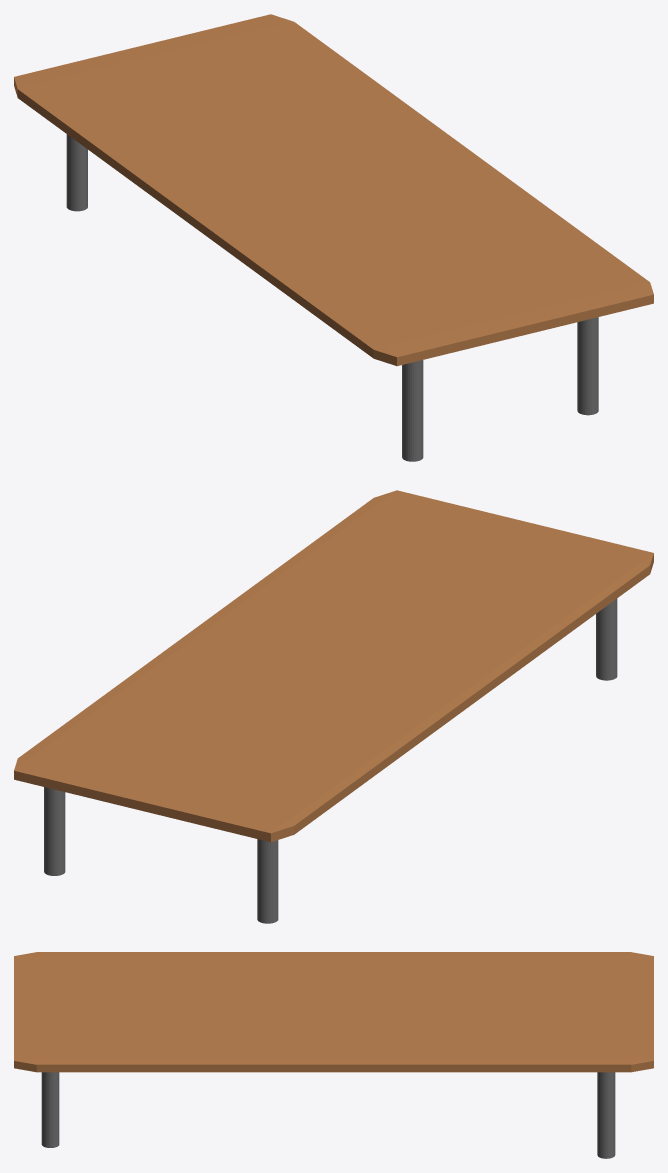
File: table-model.fbx
3 views of the same model, one above another, from view 1: azimuth 30°, elevation 25°; view 2: azimuth 150°, elevation 25°; view 3: azimuth 270°, elevation 25° (orthographic). The views are drawn at different scales.
Visible parts, largest first — view 1: Tabletop, LegB, LegD, LegA; view 2: Tabletop, LegC, LegA, LegB; view 3: Tabletop, LegC, LegD.
Boxes of the visible parts, bbox=[...] form: Tabletop: bbox=[14, 14, 653, 366]; LegB: bbox=[402, 360, 423, 461]; LegD: bbox=[577, 317, 598, 415]; LegA: bbox=[66, 134, 87, 211]; Tabletop: bbox=[14, 490, 653, 842]; LegC: bbox=[44, 787, 65, 875]; LegA: bbox=[257, 839, 278, 923]; LegB: bbox=[596, 598, 617, 680]; Tabletop: bbox=[14, 952, 653, 1072]; LegC: bbox=[597, 1072, 615, 1158]; LegD: bbox=[41, 1072, 59, 1147].
Size of the model in its own units: 600 by 253 by 1440.
